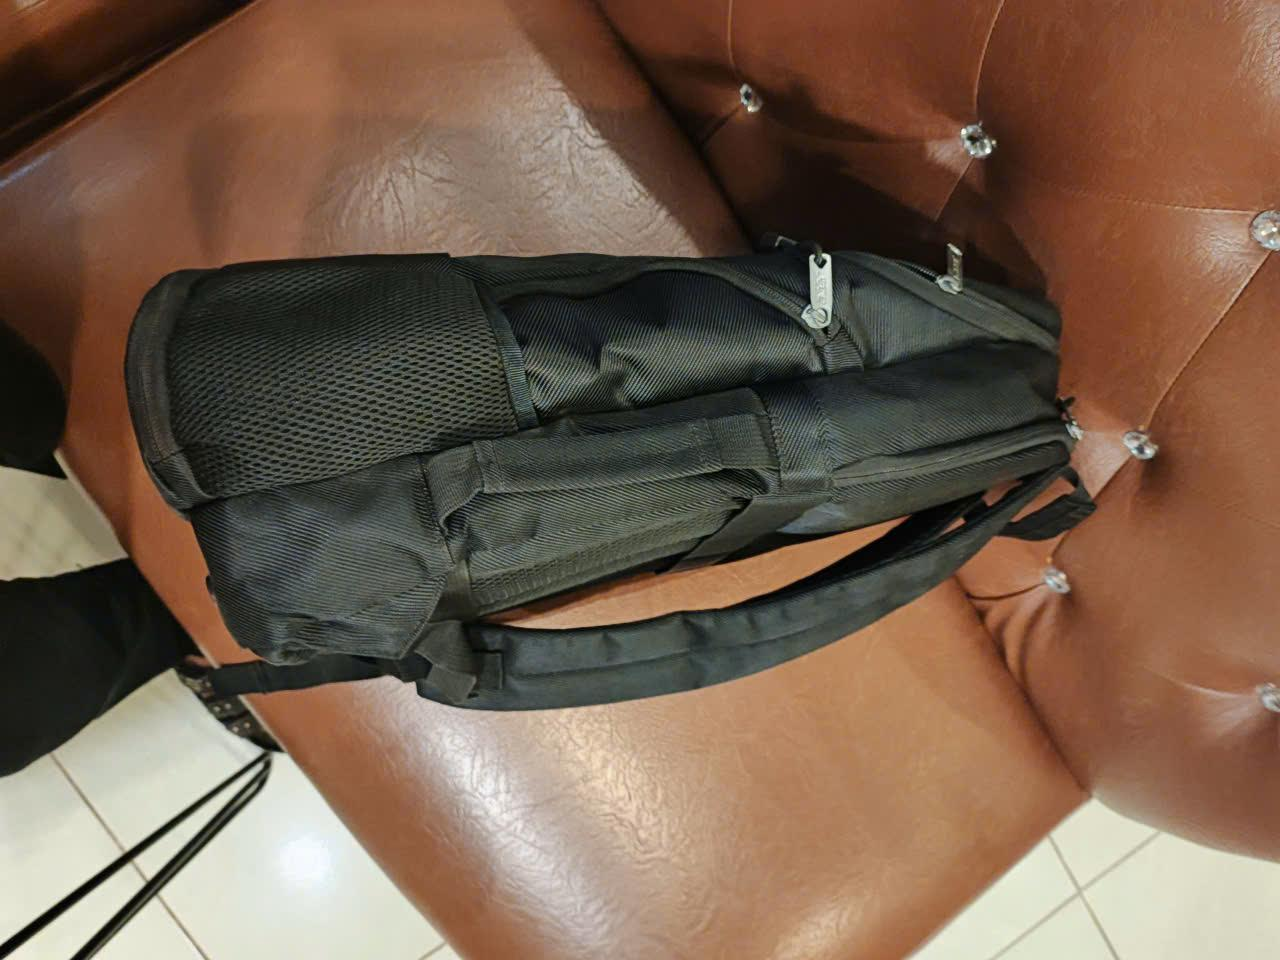Con lai: (122, 232, 1101, 710)
